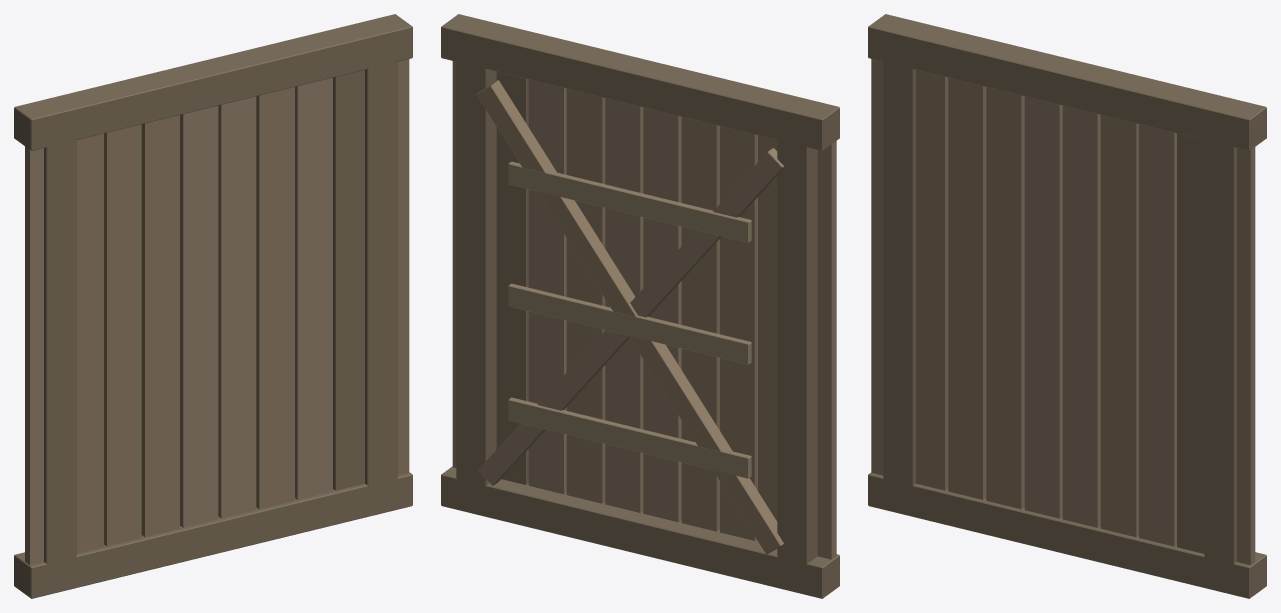
Rendered from env_wall_plank_crossbraced_b_v03_three_battens.glb.
3 renders of one model, left to right at view 1: azimuth 30°, elevation 25°; view 2: azimuth 150°, elevation 25°; view 3: azimuth 330°, elevation 25°, orthographic.
Visible parts, largest first — view 1: material_2, material_0, material_1; view 2: material_2, material_0, material_1, material_3; view 3: material_2, material_0, material_1.
Part boxes in pixels (bbox=[...]): material_2: bbox=[14, 14, 412, 598]; material_0: bbox=[76, 59, 409, 553]; material_1: bbox=[25, 77, 332, 565]; material_2: bbox=[441, 14, 839, 598]; material_0: bbox=[452, 61, 783, 554]; material_1: bbox=[478, 79, 836, 559]; material_3: bbox=[508, 161, 751, 478]; material_2: bbox=[868, 14, 1266, 598]; material_0: bbox=[916, 70, 1255, 565]; material_1: bbox=[871, 59, 1176, 546].
Size of the model in its own units: 2 by 2.4 by 0.19.
